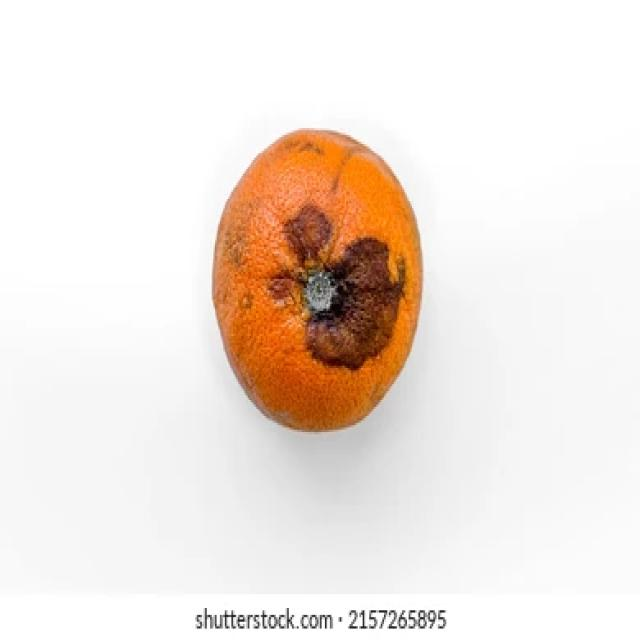overripe: (205, 114, 432, 436)
